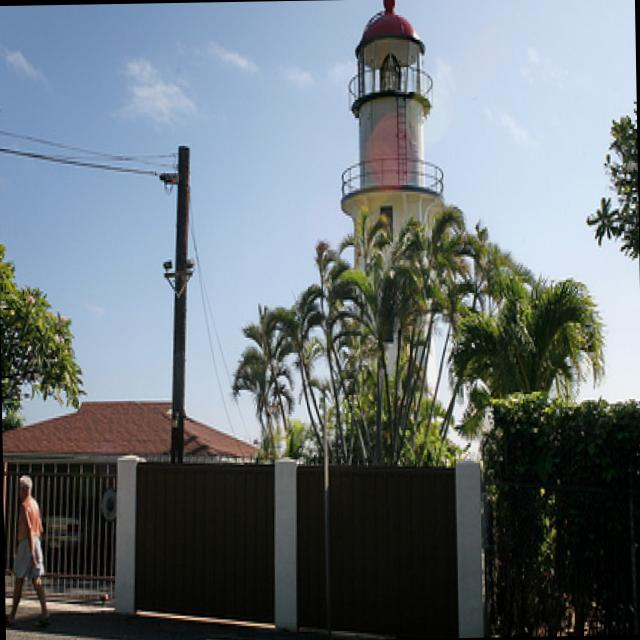Vehicle: (35, 494, 83, 548)
